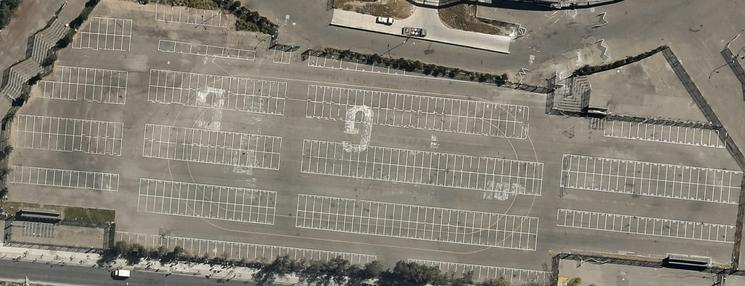parkingspot: (113, 231, 377, 274), (297, 193, 539, 235), (300, 155, 543, 196), (295, 210, 538, 251), (302, 139, 544, 180), (305, 100, 524, 140), (307, 84, 525, 123), (557, 208, 736, 244), (560, 170, 742, 205), (562, 154, 744, 188), (137, 194, 276, 226), (149, 68, 287, 100), (142, 139, 280, 171), (147, 85, 286, 116), (144, 123, 282, 154), (139, 178, 277, 208), (408, 258, 553, 285), (604, 119, 728, 149), (13, 165, 120, 192), (25, 114, 124, 140), (24, 131, 123, 156), (307, 52, 407, 76), (36, 80, 127, 105), (157, 39, 256, 61), (155, 4, 229, 28), (61, 66, 128, 88), (72, 31, 132, 52), (88, 16, 132, 37), (272, 46, 292, 65)
